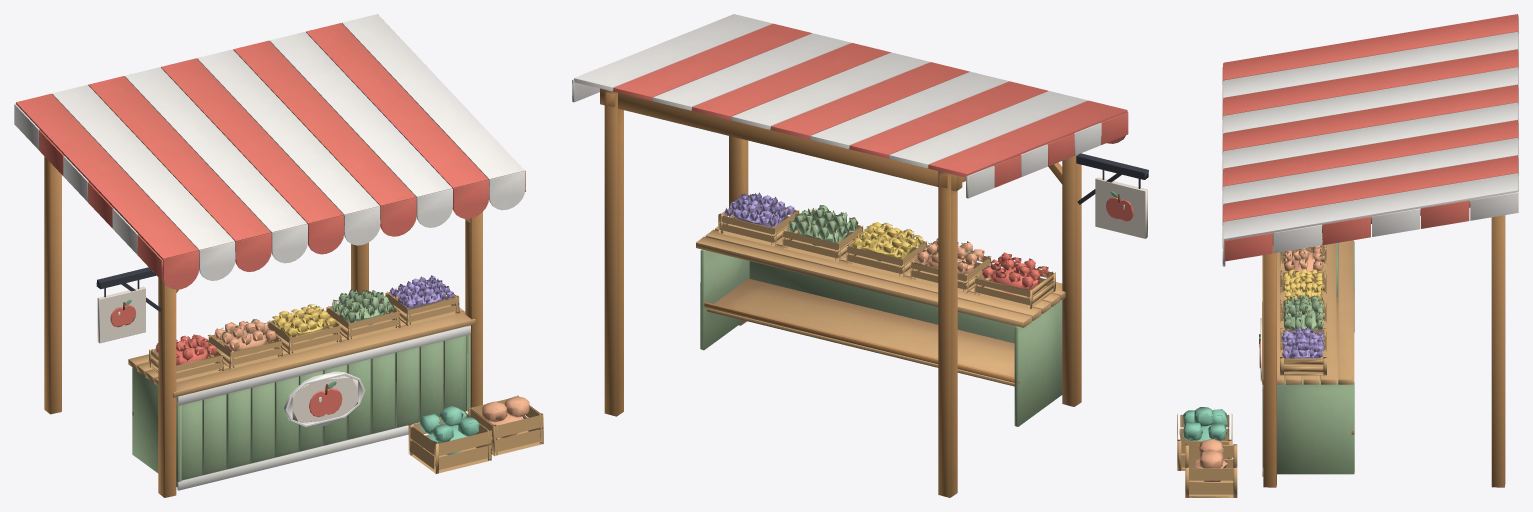
The model's file is warung_r4.glb.
The picture shows the model from 3 angles, left to right: view 1: azimuth 30°, elevation 25°; view 2: azimuth 150°, elevation 25°; view 3: azimuth 270°, elevation 25°; orthographic projection. The views are drawn at different scales.
Visible parts, largest first — view 1: market-stall_body, market-stall_crates, market-stall_produce, market-stall_signs; view 2: market-stall_body, market-stall_produce, market-stall_crates, market-stall_signs; view 3: market-stall_body, market-stall_produce, market-stall_crates.
Part boxes in pixels (box(x1,y1,x2,y2)): market-stall_body: box(14, 14, 525, 497); market-stall_crates: box(148, 290, 543, 473); market-stall_produce: box(155, 275, 529, 455); market-stall_signs: box(96, 267, 365, 427); market-stall_body: box(572, 14, 1128, 497); market-stall_produce: box(724, 192, 1048, 293); market-stall_crates: box(718, 207, 1055, 308); market-stall_signs: box(1076, 153, 1148, 238); market-stall_body: box(1222, 14, 1518, 487); market-stall_produce: box(1182, 235, 1324, 481); market-stall_crates: box(1177, 232, 1326, 497).
Size of the model in its own units: 3.64 by 2.65 by 2.66.
Materials: 15 (1 with a texture image).
